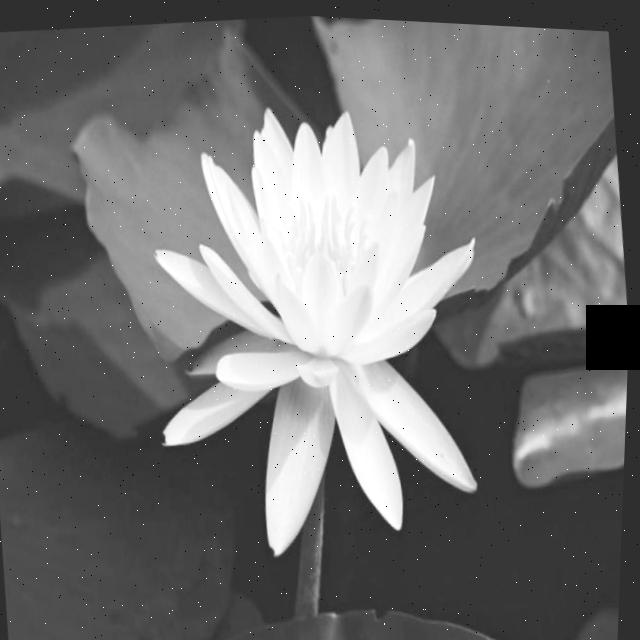water-lily: (92, 5, 546, 591)
